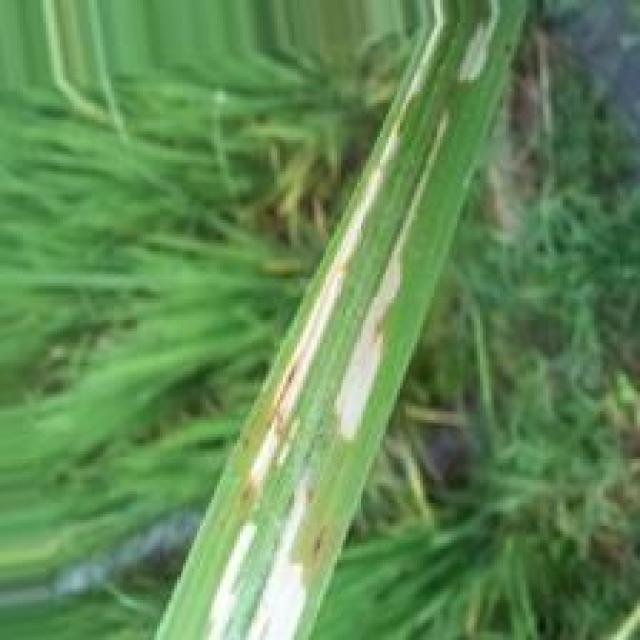Rice_Hispa: (250, 139, 396, 490), (233, 460, 309, 640), (339, 230, 405, 436), (210, 521, 257, 631)
